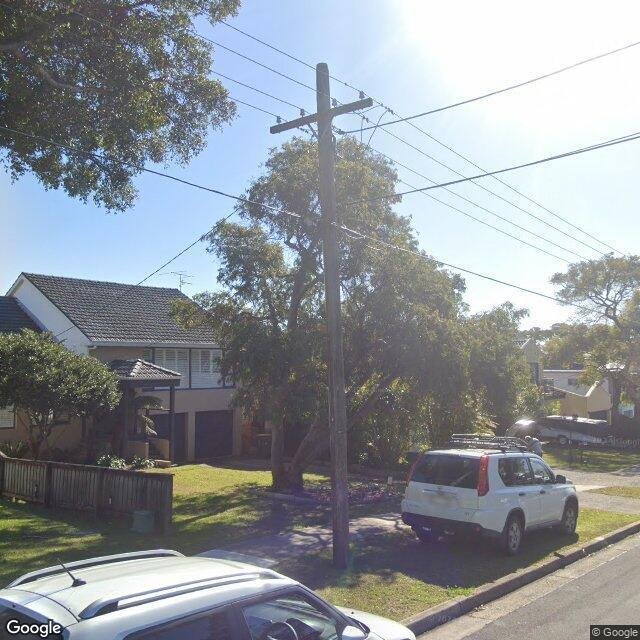crossarm: (270, 96, 374, 135)
timber-pole: (315, 63, 350, 569)
